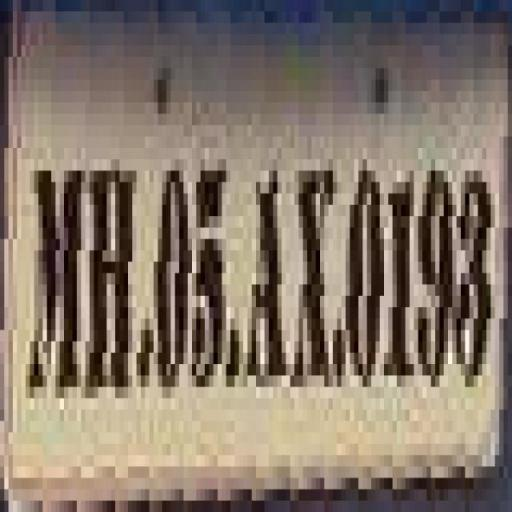number plate: (0, 34, 495, 444)
